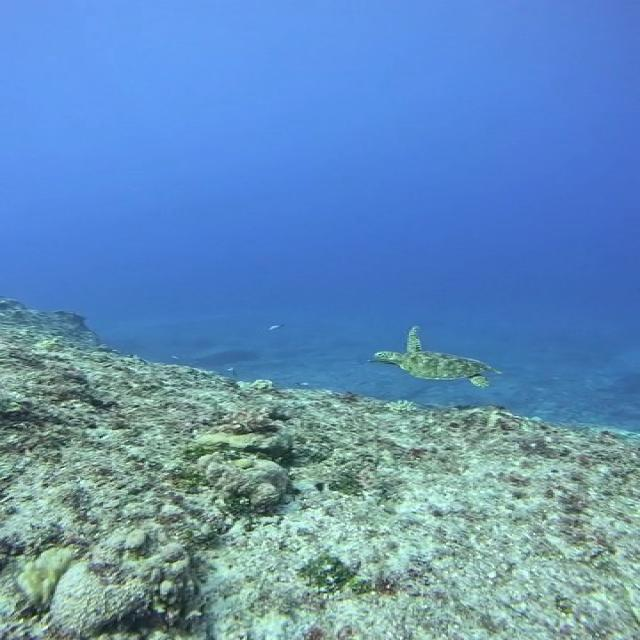turtle: (370, 326, 502, 388)
